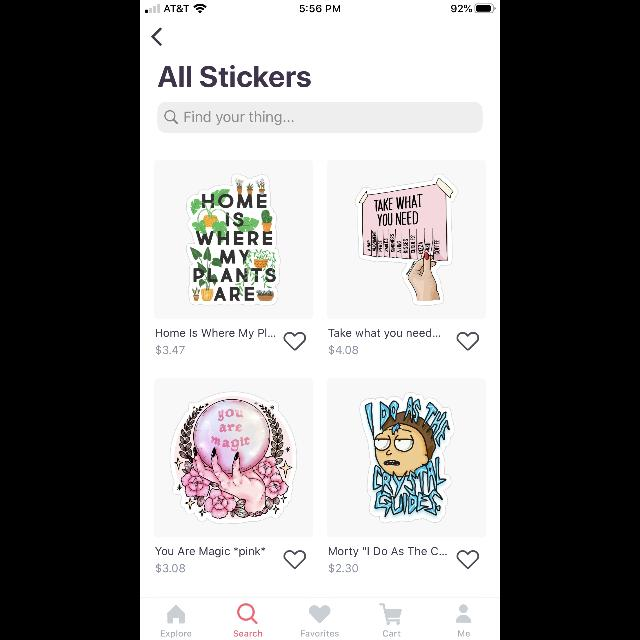icon: (379, 604, 401, 624), (456, 332, 479, 350), (237, 604, 257, 624), (309, 605, 331, 623), (284, 551, 306, 569), (457, 550, 479, 568), (284, 332, 306, 350), (168, 604, 185, 624), (456, 604, 470, 622), (165, 110, 178, 124), (151, 28, 161, 46)
image: (154, 160, 314, 320), (328, 160, 487, 320), (328, 378, 487, 538), (154, 378, 312, 538)
input: (158, 102, 482, 134)
text: (157, 65, 310, 87), (184, 111, 294, 125), (329, 546, 446, 558), (157, 329, 276, 339), (328, 329, 440, 339), (155, 547, 265, 557), (160, 630, 192, 638), (328, 346, 358, 354), (328, 564, 358, 572), (157, 564, 186, 572), (156, 346, 184, 354), (302, 630, 338, 636), (234, 630, 262, 636), (384, 630, 401, 636), (458, 630, 469, 636)
uppertaskbar: (140, 0, 500, 14)
